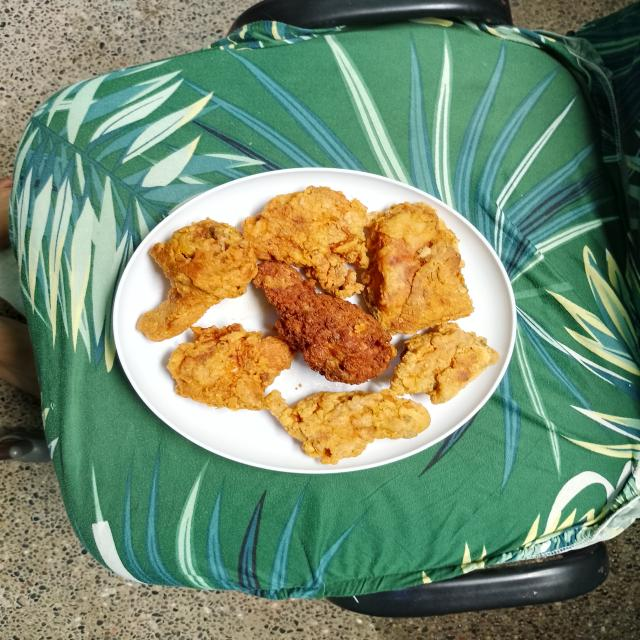Chicken -Fried Chicken-: (235, 254, 399, 384), (231, 184, 386, 298), (374, 194, 472, 356), (132, 215, 258, 338), (273, 370, 433, 466), (157, 326, 311, 414), (407, 321, 500, 397)
